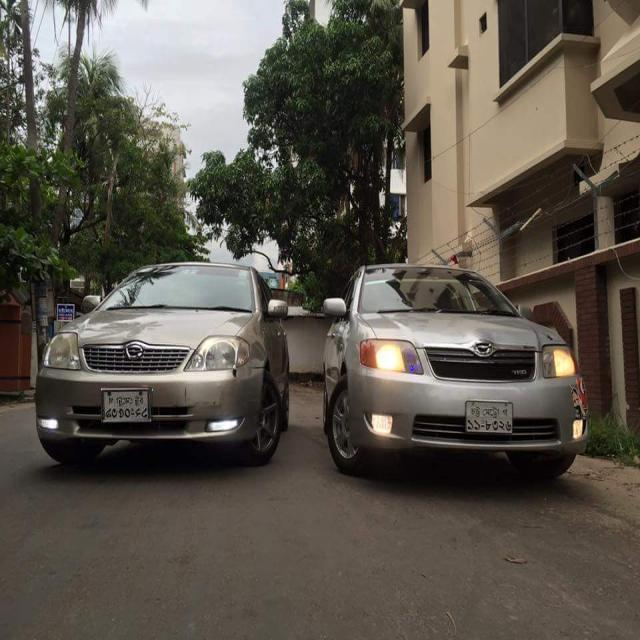numberplate: (101, 387, 152, 423), (464, 399, 513, 434)
